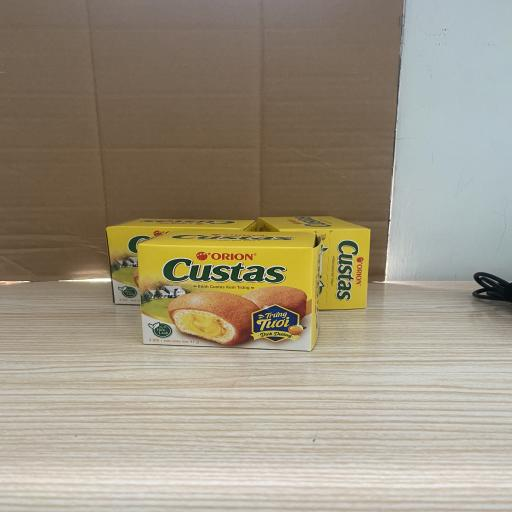custas: (137, 230, 322, 352), (105, 218, 256, 304), (257, 216, 371, 310)
